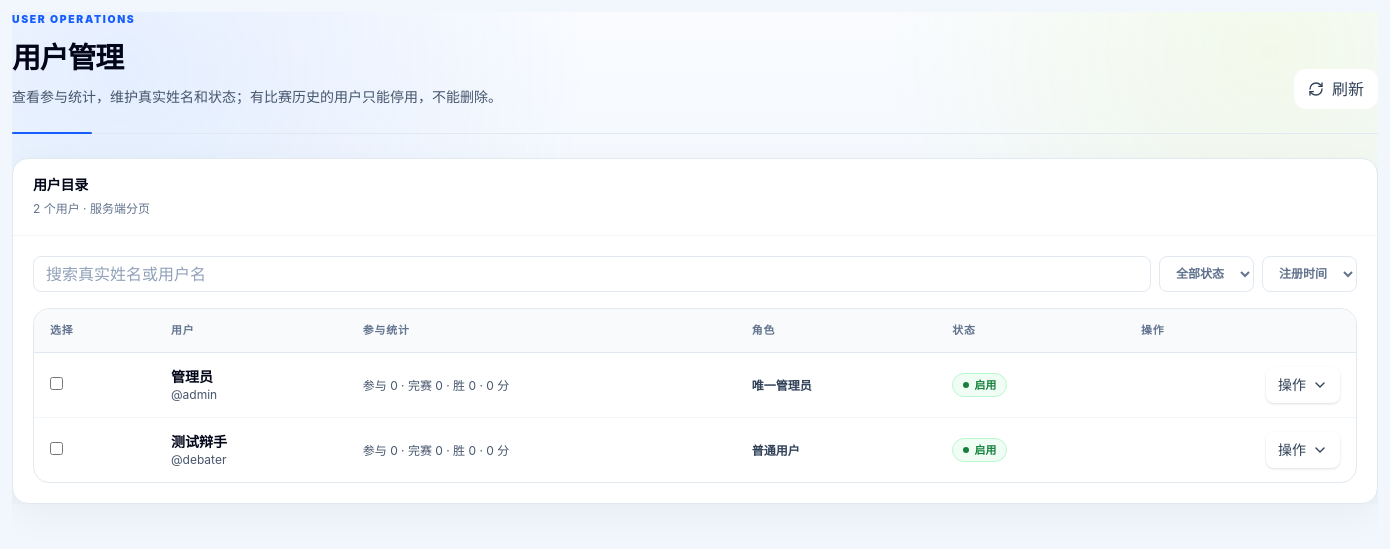
Test: admin page password management › sends the current administrator to the self-service password flow
Expected: the text "管理员" is shown, [171,368,213,385]
Press the mouse on the button with aria-label "更多操作" at (1303,385), box [1266,367,1340,403]
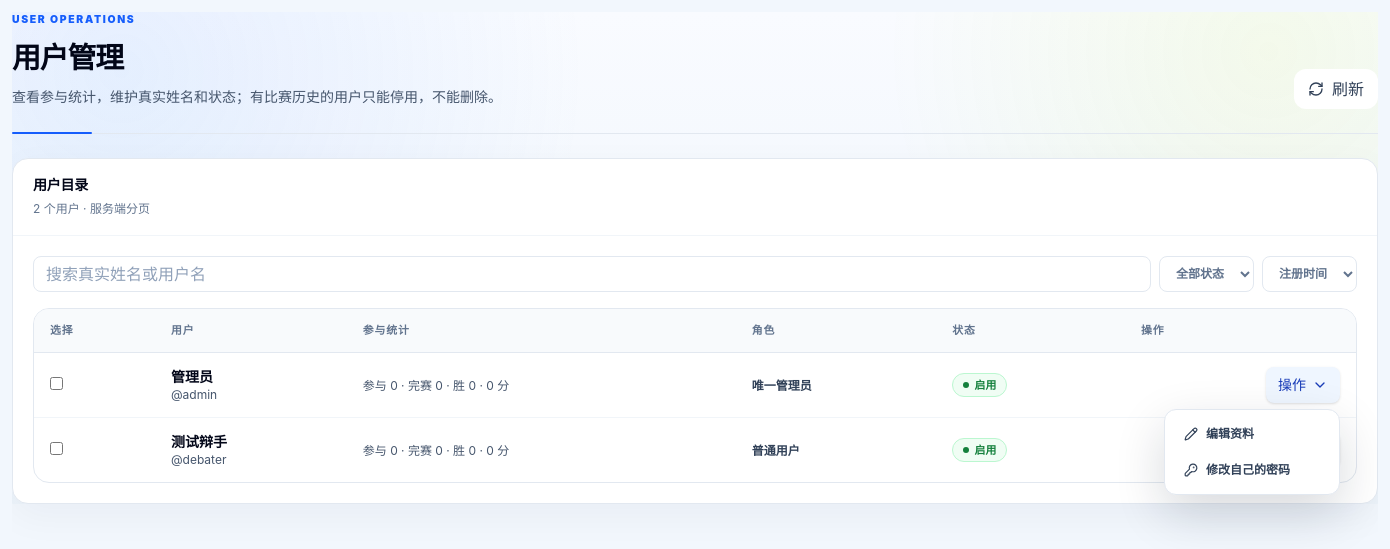
Expected: the menu item "修改自己的密码" is shown, [1184,462,1290,477]
